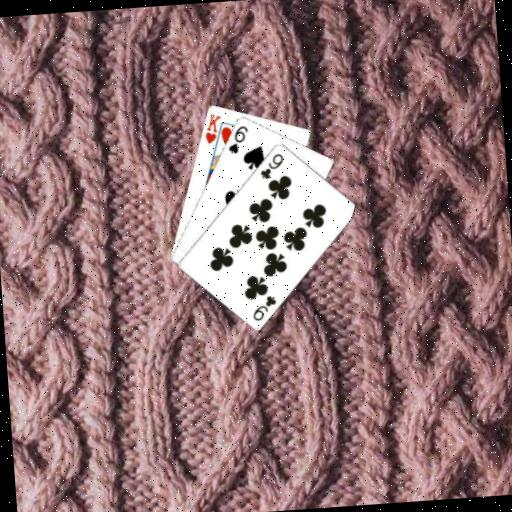6S: (224, 122, 251, 156)
9C: (256, 149, 287, 181), (249, 292, 279, 323)
KH: (200, 111, 224, 146)
